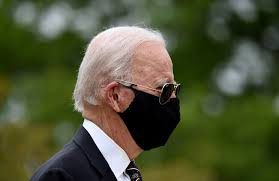mask: (130, 88, 181, 151)
